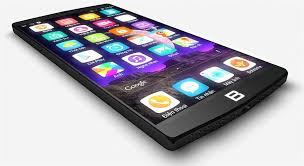bphone: (7, 1, 291, 152)
